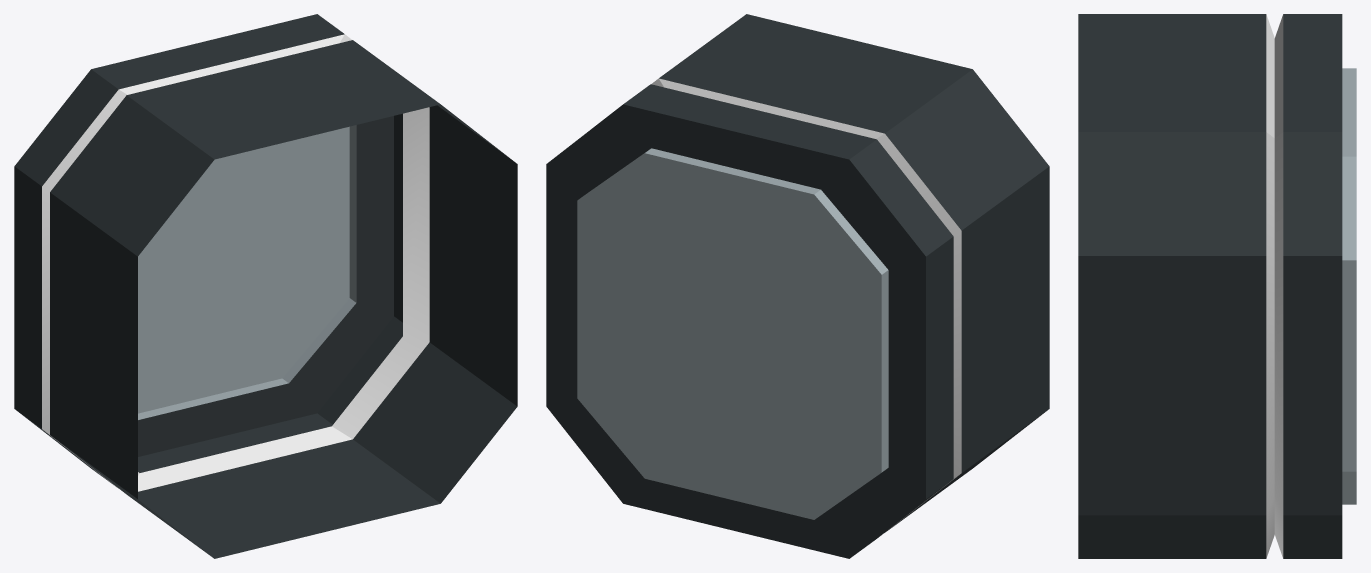
Rendered from Coffee Table 02.FBX.
3 renders of one model, left to right at view 1: azimuth 30°, elevation 25°; view 2: azimuth 150°, elevation 25°; view 3: azimuth 270°, elevation 25°, orthographic. The views are drawn at different scales.
Parts seen in each view (by area): view 1: Coffee Table 02; view 2: Coffee Table 02; view 3: Coffee Table 02.
Part boxes in pixels (box(x1,y1,x2,y2)): Coffee Table 02: box(14, 14, 517, 558); Coffee Table 02: box(546, 14, 1049, 558); Coffee Table 02: box(1078, 14, 1356, 558).
Size of the model in its own units: 110 by 110 by 65.3.
1 material, 1 textured.
